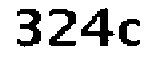2: (47, 7, 81, 53)
3: (15, 8, 41, 50)
4: (79, 6, 115, 51)
c: (120, 17, 143, 49)
